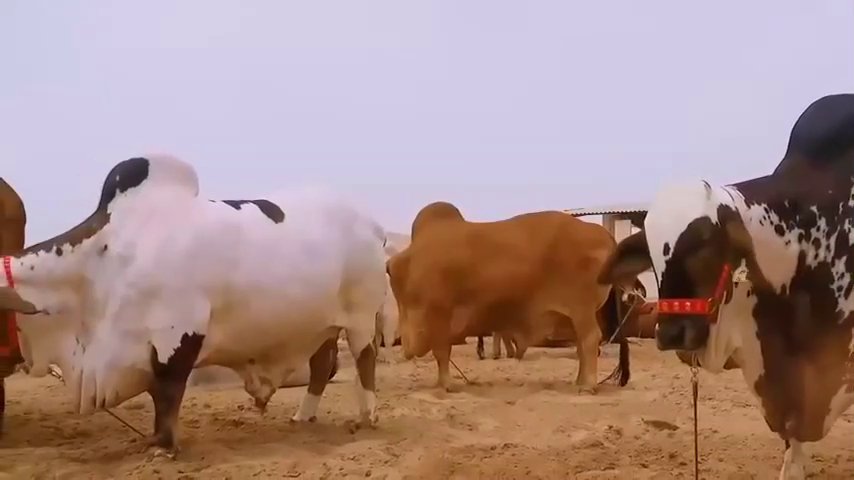bo: (8, 150, 392, 480), (598, 86, 854, 480), (374, 183, 628, 404)
